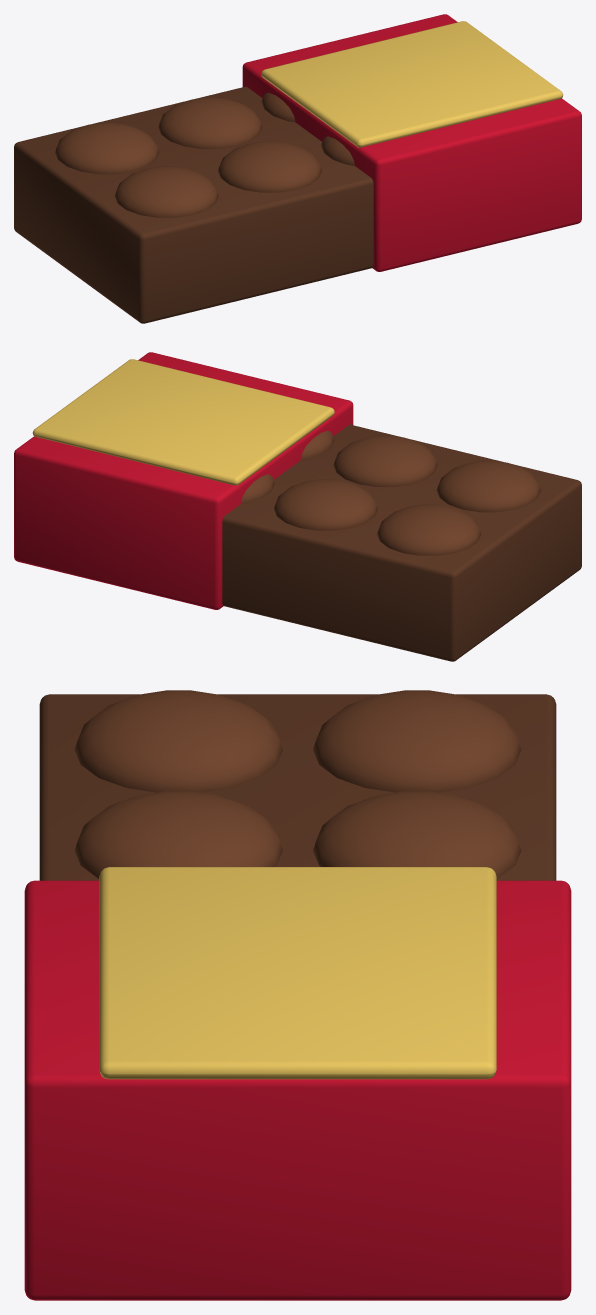
Rendered from chocolate.glb.
3 views of the same model, one above another, from view 1: azimuth 30°, elevation 25°; view 2: azimuth 150°, elevation 25°; view 3: azimuth 270°, elevation 25° (orthographic). The views are drawn at different scales.
Visible parts, largest first — view 1: chocolate; view 2: chocolate; view 3: chocolate.
Part boxes in pixels (x1,y1,x2,y2): chocolate: [14, 14, 581, 323]; chocolate: [14, 352, 581, 661]; chocolate: [24, 690, 571, 1300].
Bounding box in the file's own units: 1.33 × 0.3445 × 0.715.
